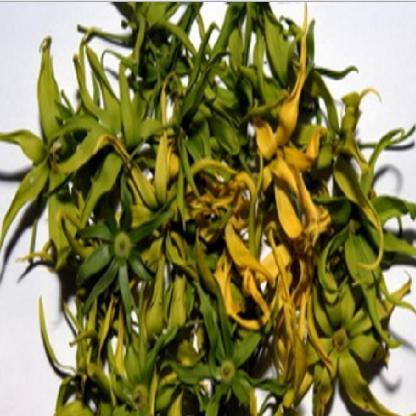Kenanga: (69, 7, 390, 411)
